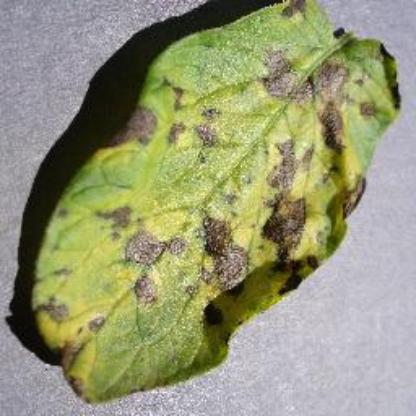Early-Blight: (27, 4, 408, 402)
